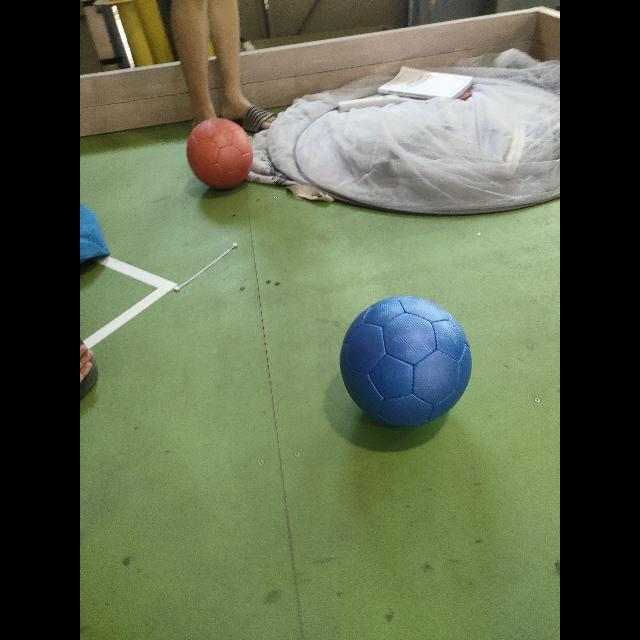B: (340, 296, 471, 428)
R: (186, 119, 252, 189)
